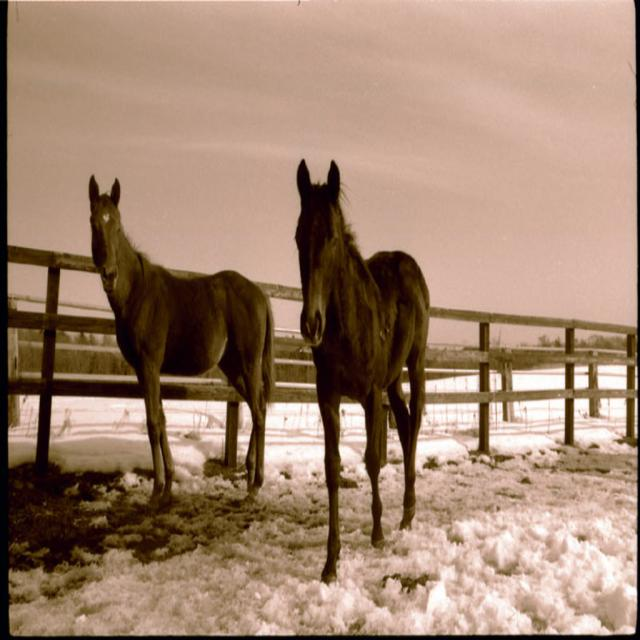Horse: (88, 172, 274, 500), (291, 158, 433, 586)
